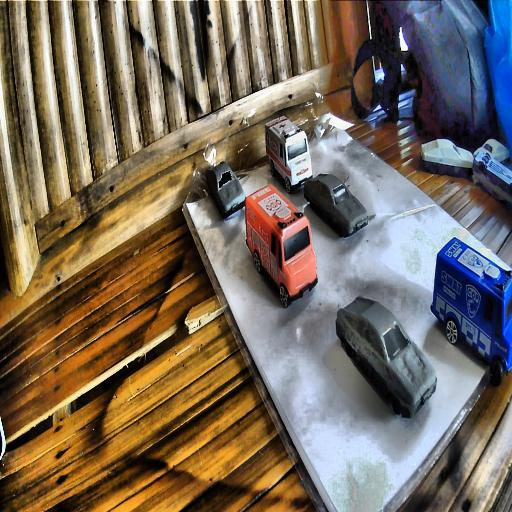ambulance: (265, 114, 312, 195)
fire_truck: (246, 182, 316, 308)
normal_car: (334, 294, 436, 417), (304, 171, 371, 239), (206, 160, 246, 220), (419, 138, 474, 180)
police car: (430, 234, 512, 384)
